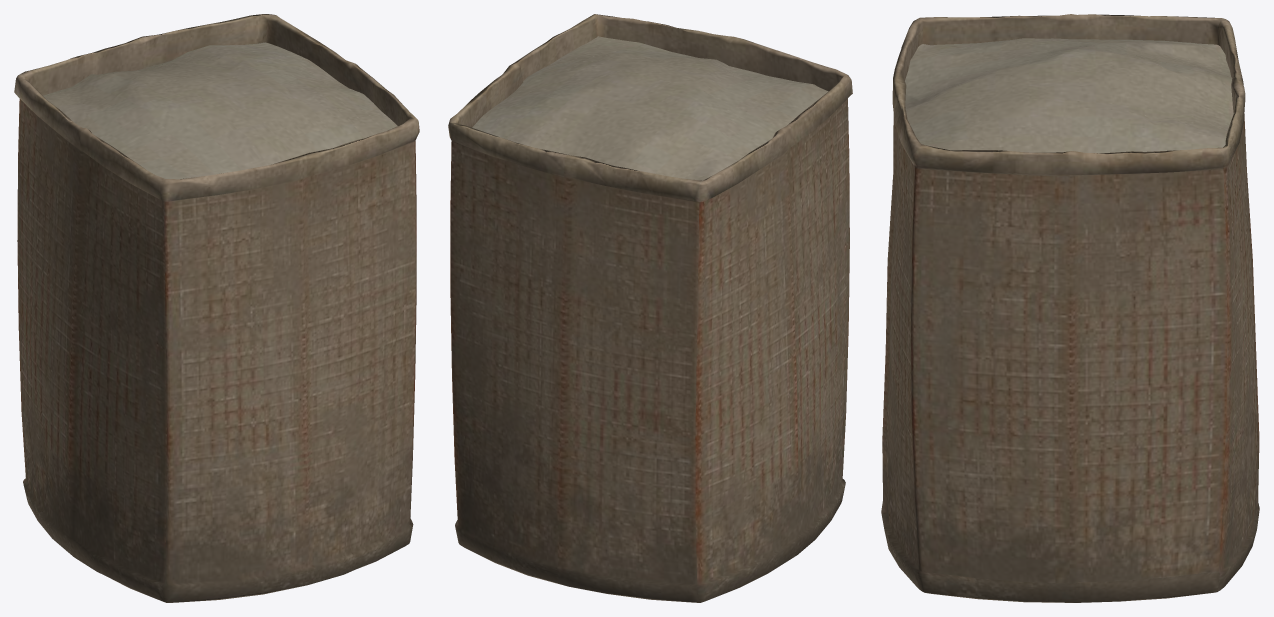
The model's file is hesco_barrier.glb.
3 views of the same model, side by side, from view 1: azimuth 30°, elevation 25°; view 2: azimuth 150°, elevation 25°; view 3: azimuth 270°, elevation 25° (orthographic). The views are drawn at different scales.
Visible parts, largest first — view 1: hesco_barrier_tall_LOD0; view 2: hesco_barrier_tall_LOD0; view 3: hesco_barrier_tall_LOD0.
Boxes of the visible parts, x1,y1,x2,y2 form: hesco_barrier_tall_LOD0: (14, 14, 419, 602); hesco_barrier_tall_LOD0: (448, 14, 852, 602); hesco_barrier_tall_LOD0: (881, 14, 1259, 602).
Size of what is drawn, in the model's own units: 2.19 by 3.06 by 2.31.
Materials: 1 (1 with a texture image).
